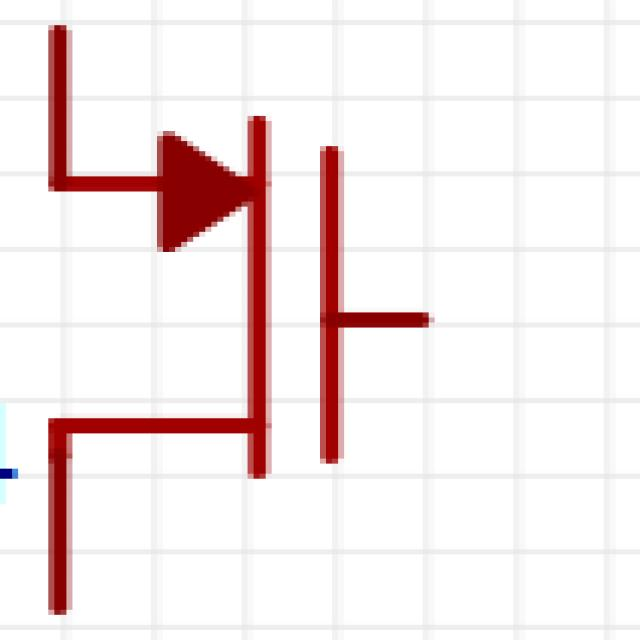pmos: (31, 20, 536, 626)
